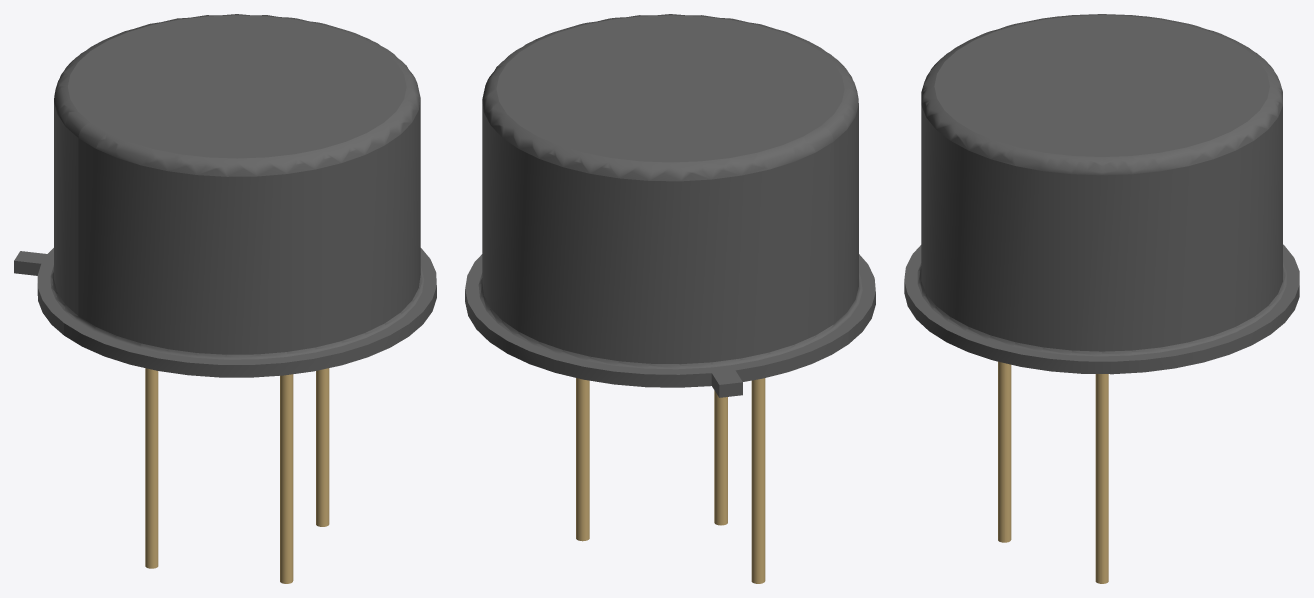
3 renders of one model, left to right at view 1: azimuth 30°, elevation 25°; view 2: azimuth 150°, elevation 25°; view 3: azimuth 270°, elevation 25°, orthographic. The views are drawn at different scales.
Visible parts, largest first — view 1: 0.16666666666666666_0.16666666666666666_0.16666666666666666_, 0.75_0.5_0.25_0.9; view 2: 0.16666666666666666_0.16666666666666666_0.16666666666666666_, 0.75_0.5_0.25_0.9; view 3: 0.16666666666666666_0.16666666666666666_0.16666666666666666_, 0.75_0.5_0.25_0.9.
Boxes of the visible parts, x1,y1,x2,y2 form: 0.16666666666666666_0.16666666666666666_0.16666666666666666_: (14,14,436,377); 0.75_0.5_0.25_0.9: (145,368,329,583); 0.16666666666666666_0.16666666666666666_0.16666666666666666_: (465,14,875,397); 0.75_0.5_0.25_0.9: (576,378,765,583); 0.16666666666666666_0.16666666666666666_0.16666666666666666_: (904,14,1299,374); 0.75_0.5_0.25_0.9: (998,361,1108,583).
Size of the model in its own units: 1.44 by 1.82 by 1.44.
